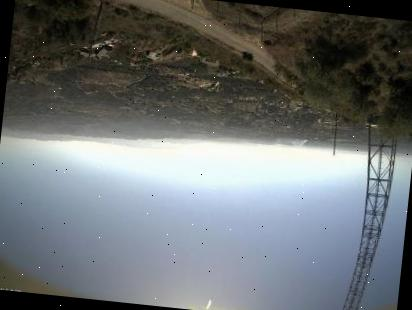smoke: (289, 138, 308, 153)
